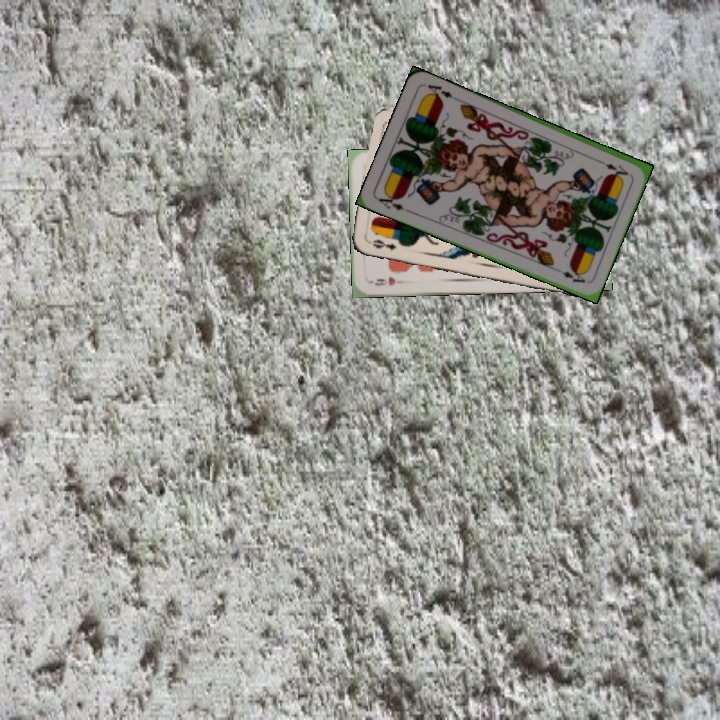EA: (374, 189, 413, 215), (594, 157, 631, 178)
EO: (365, 235, 399, 253)
H9: (366, 273, 398, 290)
